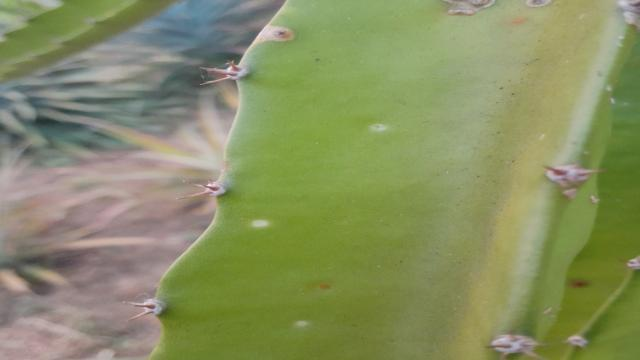stemcanker: (358, 117, 400, 140), (244, 209, 277, 234), (285, 313, 318, 336), (309, 277, 336, 295)
